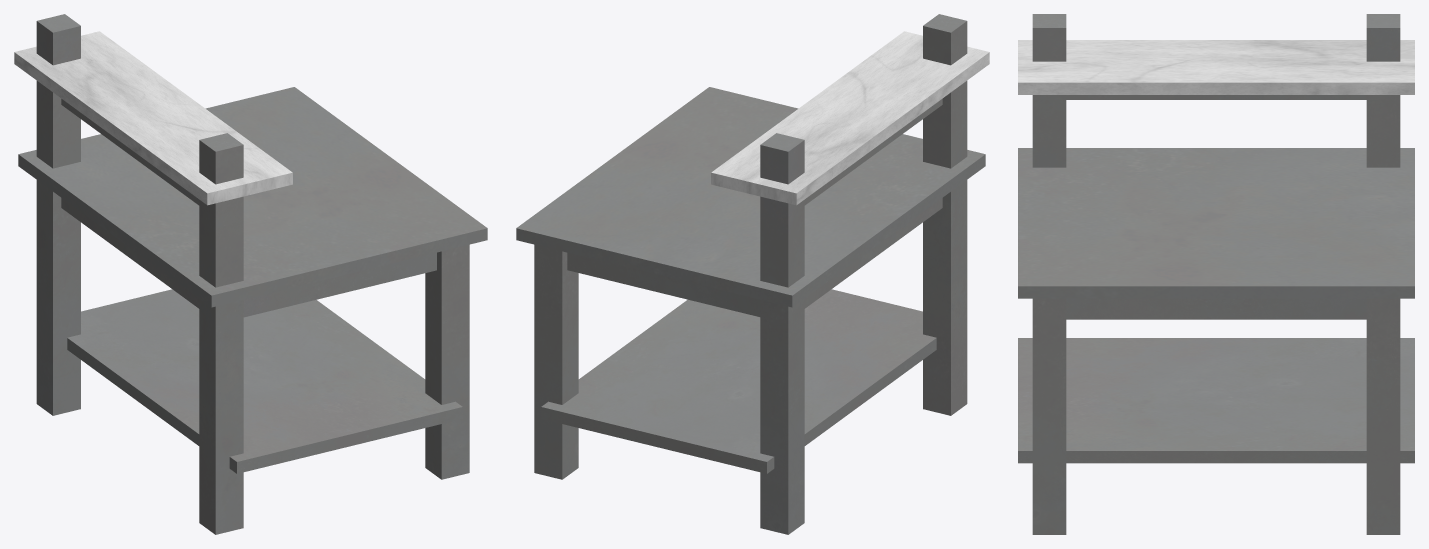
File: cutting_table.glb
The picture shows the model from 3 angles, left to right: view 1: azimuth 30°, elevation 25°; view 2: azimuth 150°, elevation 25°; view 3: azimuth 270°, elevation 25°; orthographic projection. The views are drawn at different scales.
Visible parts, largest first — view 1: countertop_0; view 2: countertop_0; view 3: countertop_0.
Part boxes in pixels (bbox=[...]): countertop_0: bbox=[14, 14, 487, 534]; countertop_0: bbox=[516, 14, 989, 534]; countertop_0: bbox=[1018, 14, 1414, 534].
Bounding box in the file's own units: 19.9 × 26 × 23.76.
Materials: 3 (3 with a texture image).
